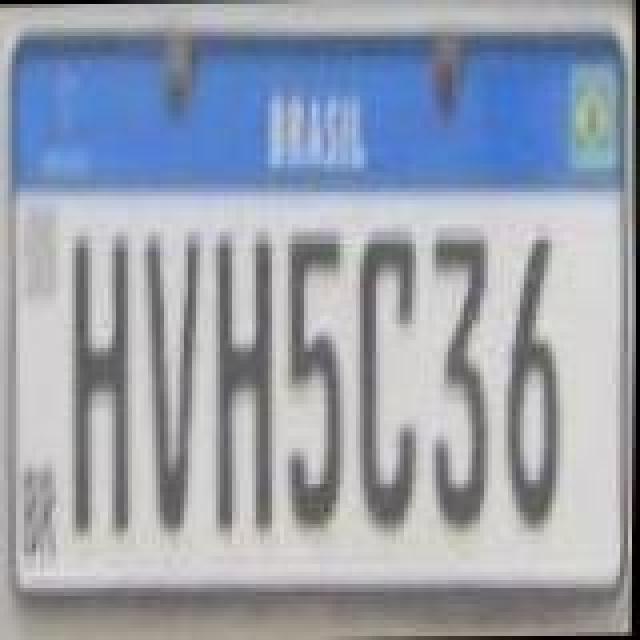3: (430, 230, 494, 534)
5: (286, 232, 350, 536)
6: (500, 220, 564, 524)
C: (356, 228, 424, 536)
H: (68, 236, 136, 540), (214, 228, 278, 544)
V: (140, 226, 204, 530)
